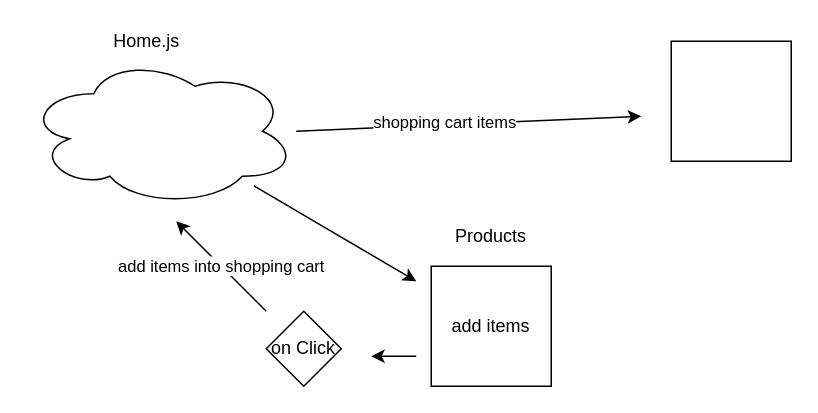
The diagram is 818 pixels wide and 413 high, and some of its shapes have lost their labels. The centre of each missing label's shape, as x and y in pixels:
"checkout page" belongs at (x=730, y=100).
"Products, Shopping cart" belongs at (x=160, y=130).
